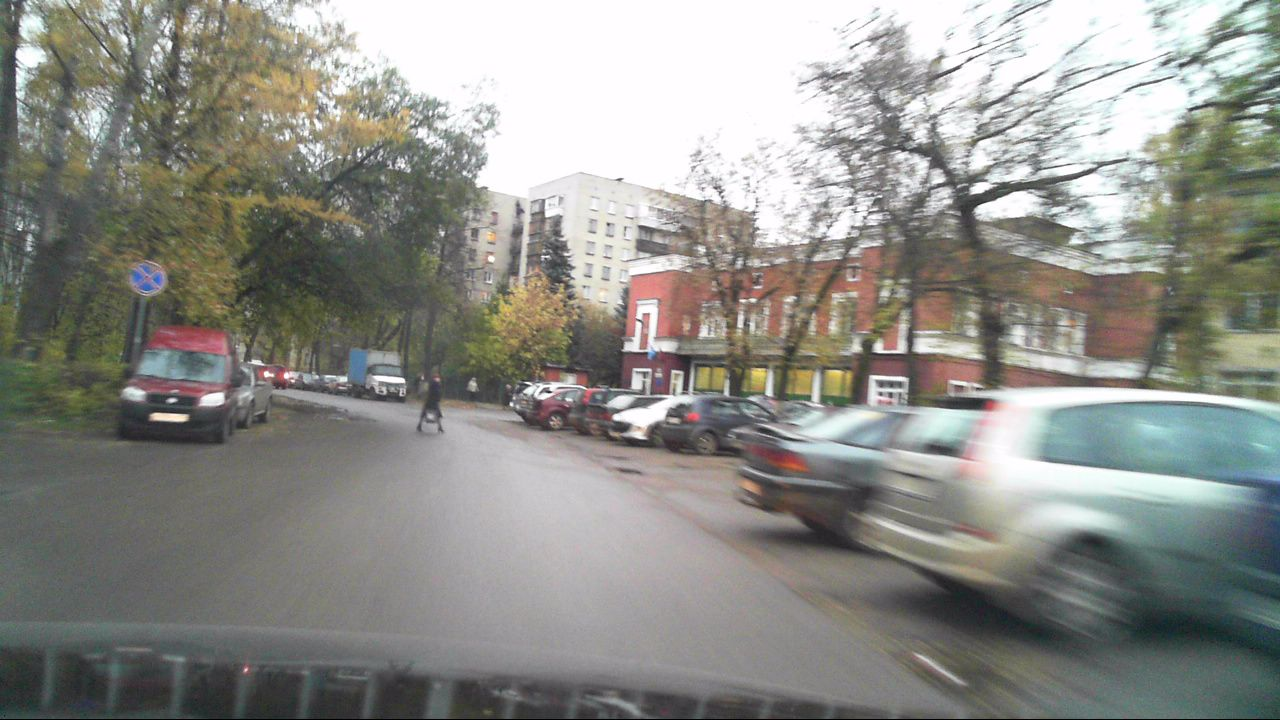No Parking: (130, 261, 166, 296)
